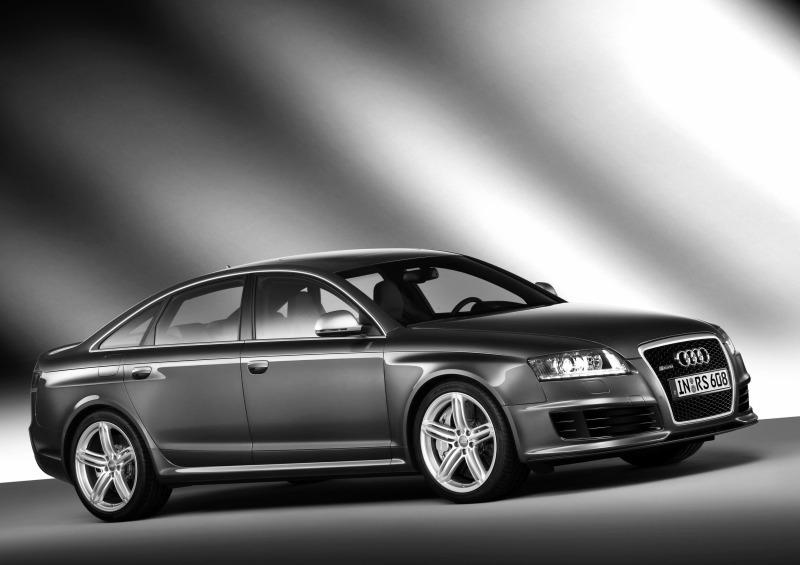car: (29, 248, 760, 522)
